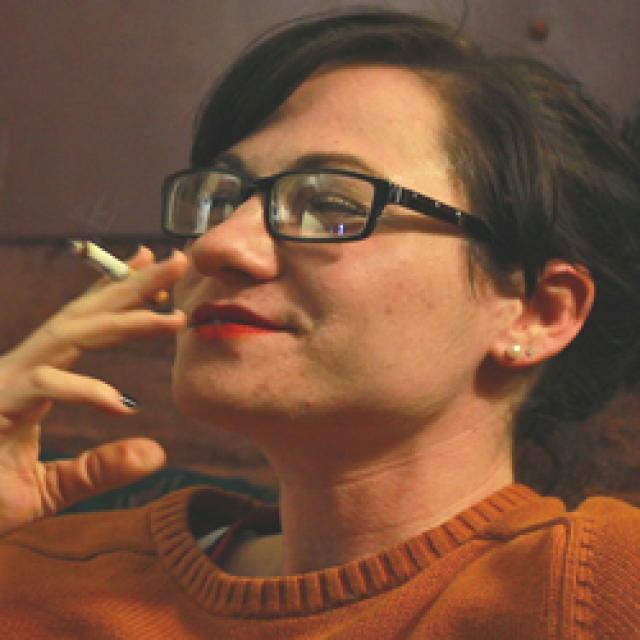Smooking: (73, 238, 143, 289)
